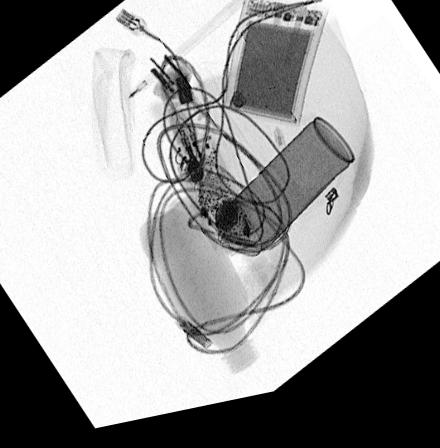Powerbank: (222, 3, 327, 139)
